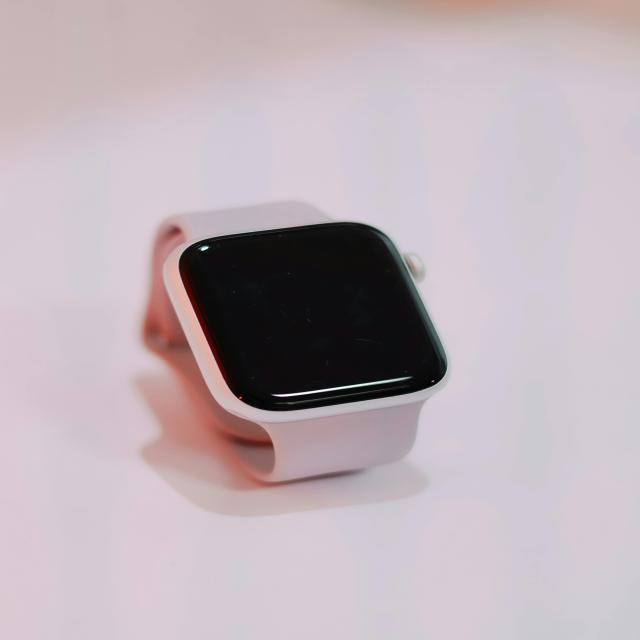relogio: (126, 194, 458, 493)
